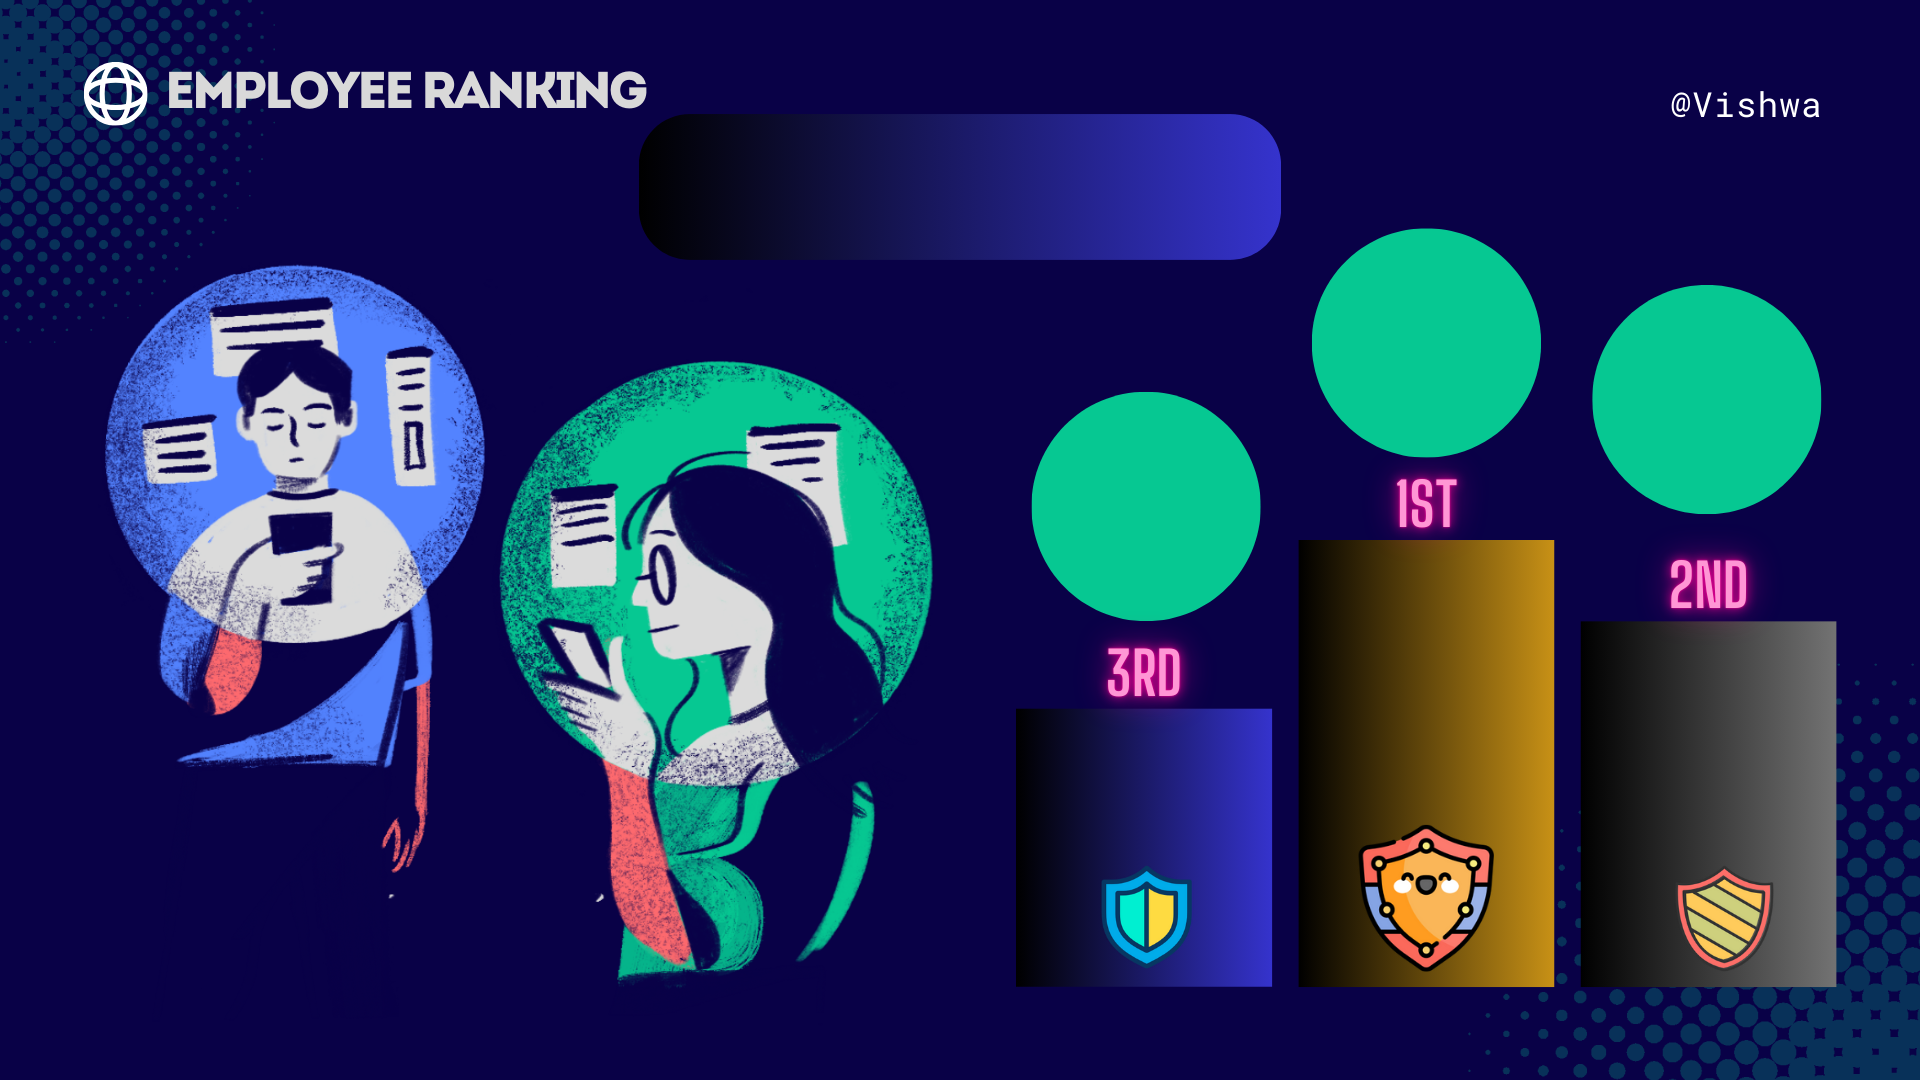

The page's visual inventory and layout, read from the dashboard file:
{"tool":"powerbi","page":{"name":"Employee Ranking","canvas":[1459,720],"ordinal":4},"visuals":[{"type":"slicer","fields":{"Values":["other.CountryBranch"]},"box":[597.7,88.6,290,77.4],"z":0},{"type":"shape","box":[1014.5,152,185.6,166],"z":1000},{"type":"shape","box":[1233.7,189.3,182.8,170.6],"z":2000},{"type":"shape","box":[801.9,265.8,179,164.1],"z":3000},{"type":"image","box":[1245.8,190.2,160.4,169.7],"z":4000},{"type":"image","box":[1014.5,126.8,189.3,221.9],"z":5000},{"type":"image","box":[794.5,256.4,186.5,181.8],"z":6000},{"type":"slicer","fields":{"Values":["other.Employee(who find out breach)"]},"box":[1014.5,372.1,195.8,48.5],"z":7000}]}

Visuals, with their boxes on the page's 1459x720 design canvas (x1, y1, x2, y2). These are canvas units, not pixel positions in the 1920x1080 screenshot, which may show the page scaled, cropped or inside an application window:
slicer - other.CountryBranch: box(598, 89, 888, 166)
shape: box(1014, 152, 1200, 318)
shape: box(1234, 189, 1416, 360)
shape: box(802, 266, 981, 430)
image: box(1246, 190, 1406, 360)
image: box(1014, 127, 1204, 349)
image: box(794, 256, 981, 438)
slicer - other.Employee(who find out breach): box(1014, 372, 1210, 421)
